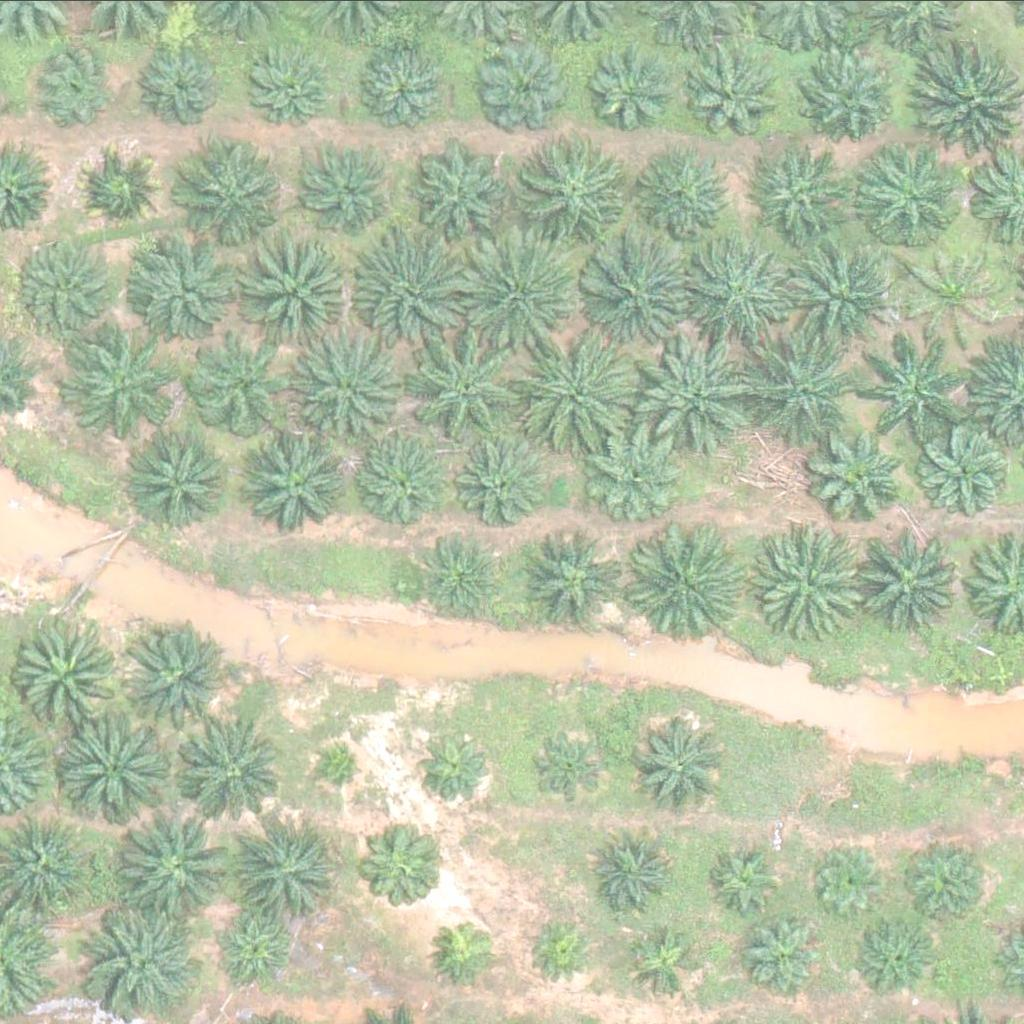Kelapa_Sawit: (625, 524, 739, 637), (642, 340, 755, 453), (749, 528, 862, 641), (463, 231, 576, 344), (352, 231, 465, 344), (234, 232, 347, 345), (119, 231, 232, 344), (294, 334, 407, 447), (523, 332, 636, 445), (59, 715, 172, 828), (176, 718, 289, 831), (88, 903, 201, 1016), (680, 236, 794, 348), (793, 235, 907, 347), (858, 522, 972, 634), (577, 228, 691, 340), (118, 812, 232, 924), (855, 334, 968, 446), (740, 330, 853, 442), (178, 136, 291, 248), (528, 134, 641, 246), (408, 328, 521, 440), (11, 620, 124, 732), (119, 623, 232, 735), (228, 807, 341, 919), (801, 50, 902, 150), (897, 241, 998, 341), (915, 424, 1016, 524), (631, 716, 732, 816), (476, 37, 577, 137), (416, 145, 517, 245), (76, 343, 177, 443), (188, 337, 289, 437), (342, 431, 443, 531), (250, 431, 351, 531), (124, 425, 225, 525), (522, 529, 623, 629), (759, 144, 859, 244), (860, 151, 960, 251), (808, 427, 908, 527), (355, 36, 455, 136), (11, 236, 111, 336), (585, 424, 685, 524), (444, 428, 544, 528), (737, 911, 826, 999), (525, 719, 614, 807), (688, 51, 776, 139), (642, 154, 730, 242), (904, 841, 992, 929), (214, 904, 302, 992), (585, 48, 673, 136), (32, 42, 120, 130), (144, 41, 232, 129), (249, 41, 337, 129), (351, 819, 439, 907), (590, 825, 678, 913), (852, 913, 940, 1000), (407, 722, 495, 809), (79, 147, 167, 234), (300, 150, 388, 237), (410, 535, 498, 622), (817, 842, 893, 917), (428, 912, 503, 987), (628, 927, 703, 1002), (712, 839, 787, 914), (524, 912, 599, 987), (322, 740, 372, 790)
